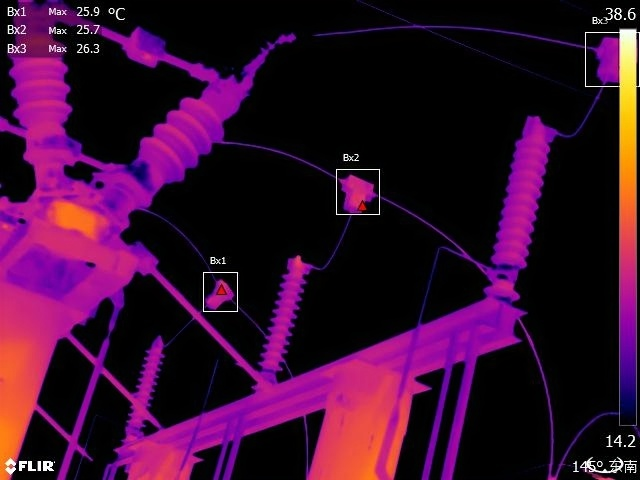lightning arrester: (484, 111, 558, 277), (255, 252, 320, 377), (117, 330, 171, 441)
post insulator: (119, 103, 244, 180), (6, 25, 80, 134)
switch: (19, 1, 258, 100)
